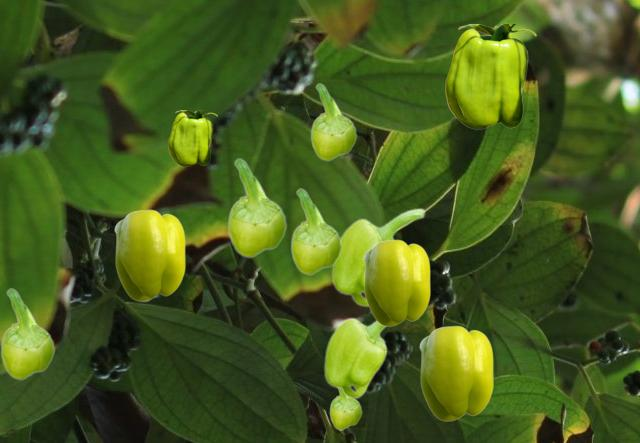bell_pepper: (445, 24, 535, 128), (331, 207, 425, 306), (419, 325, 492, 420), (114, 209, 184, 300), (227, 158, 286, 257), (363, 239, 429, 325), (323, 315, 389, 398), (0, 288, 54, 379), (290, 188, 341, 274), (310, 83, 356, 160), (168, 110, 216, 165), (329, 389, 361, 429)
